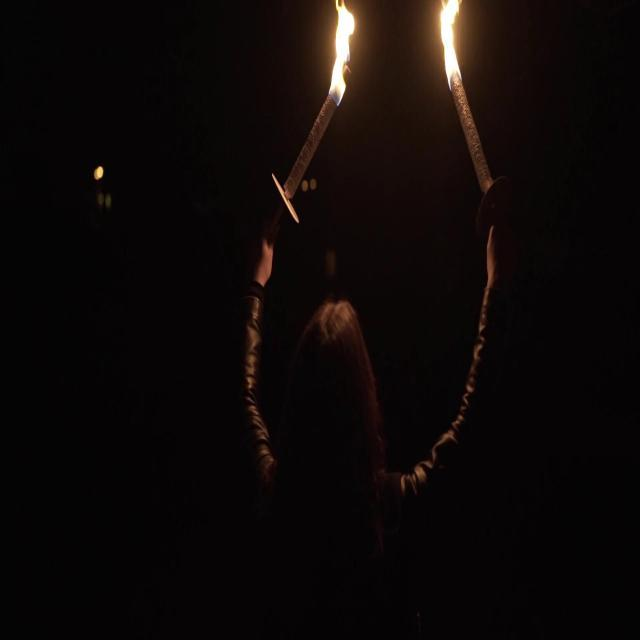Fire: (326, 0, 357, 98), (437, 0, 465, 84)
